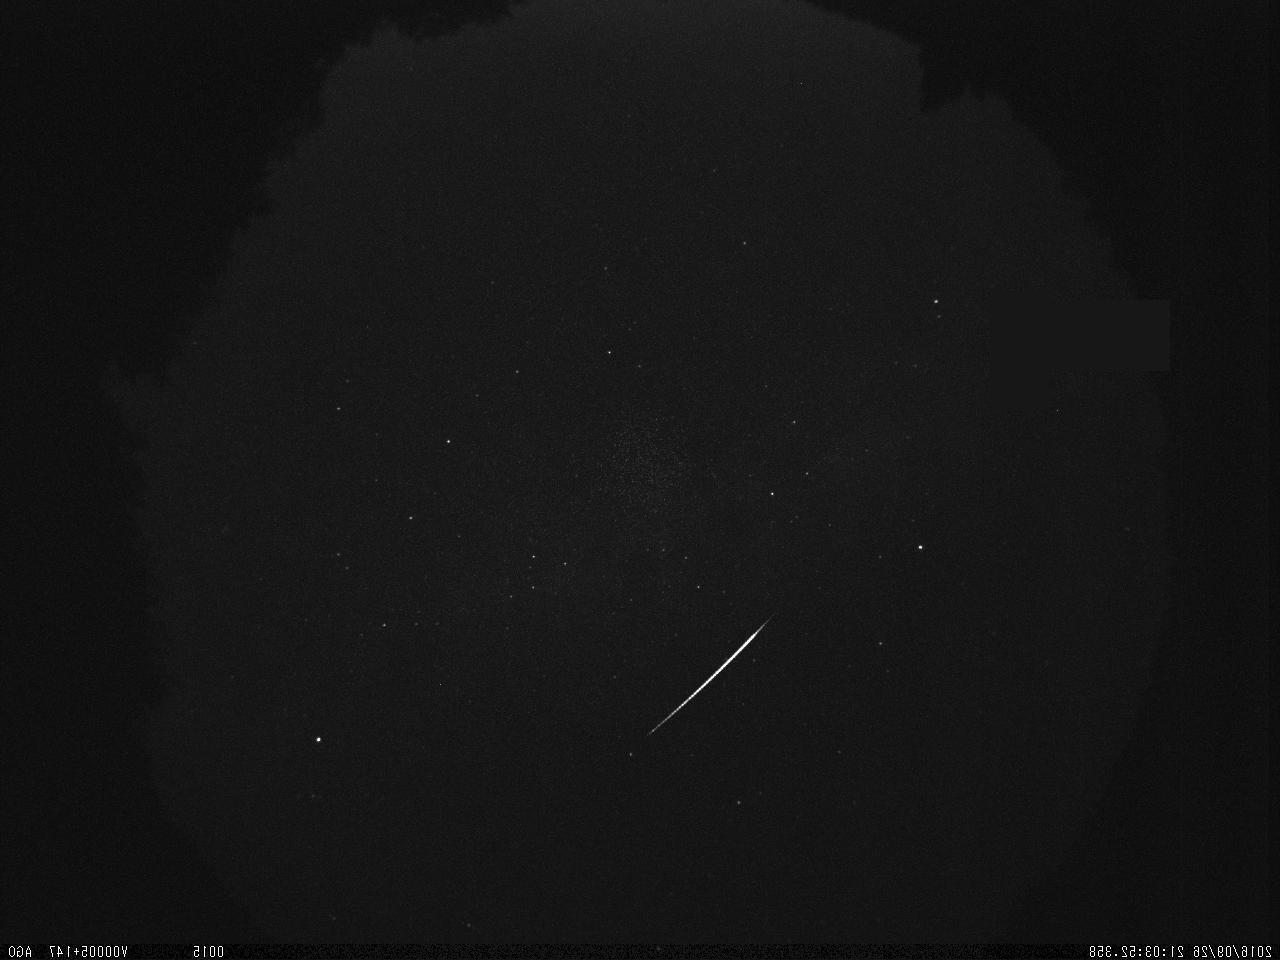meteor: (628, 611, 785, 752)
